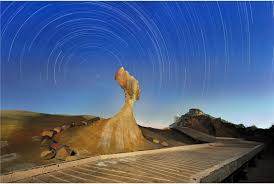yehliu: (111, 64, 149, 102)
